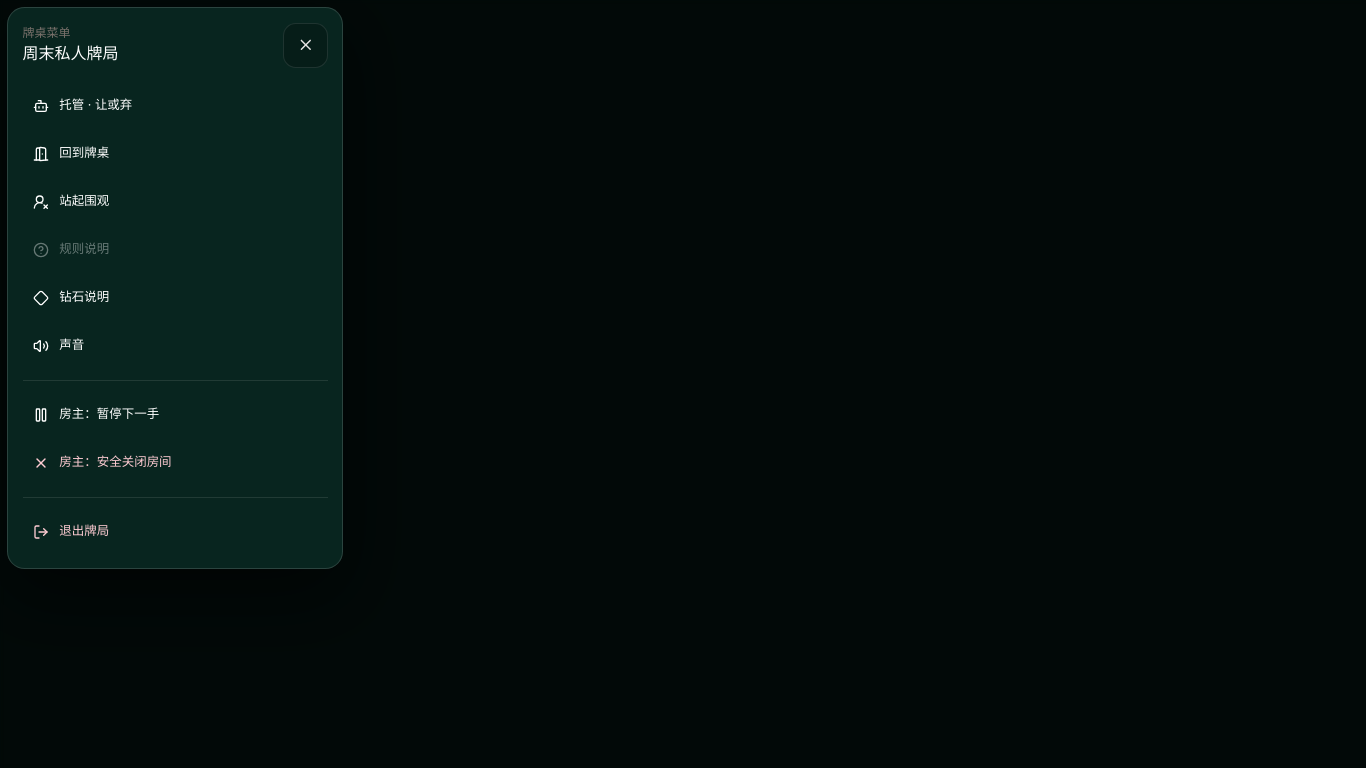
it: mobile table product components › shows safe seat lifecycle controls and honest disabled placeholders
The width and height of the screenshot is (1366, 768).
Expected: the button "回到牌桌" is shown, x1=23 y1=132 x2=328 y2=176
Expected: the button "站起围观" is shown, x1=23 y1=180 x2=328 y2=224
Click the button "声音" at (41, 346), box x1=23 y1=324 x2=328 y2=368
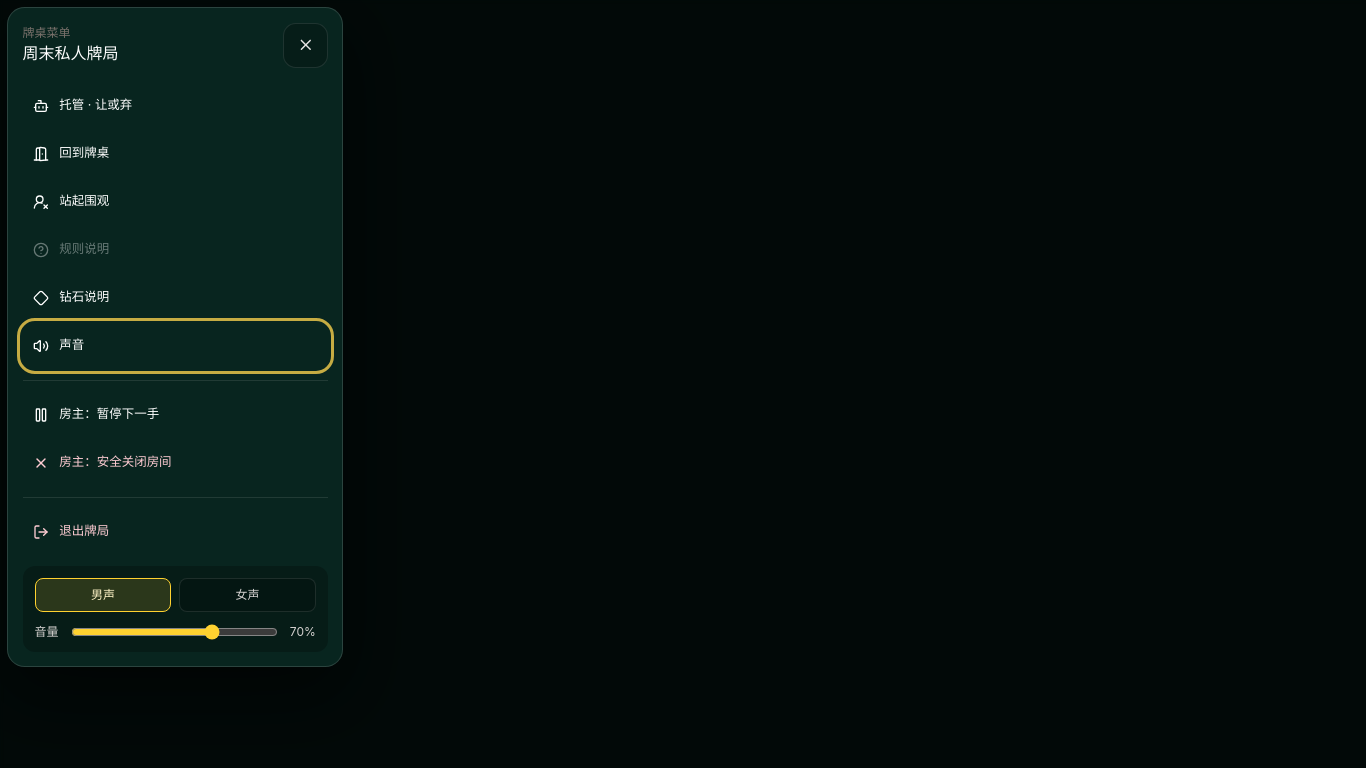
Click the button "女声" at (248, 595), box x1=179 y1=578 x2=316 y2=612
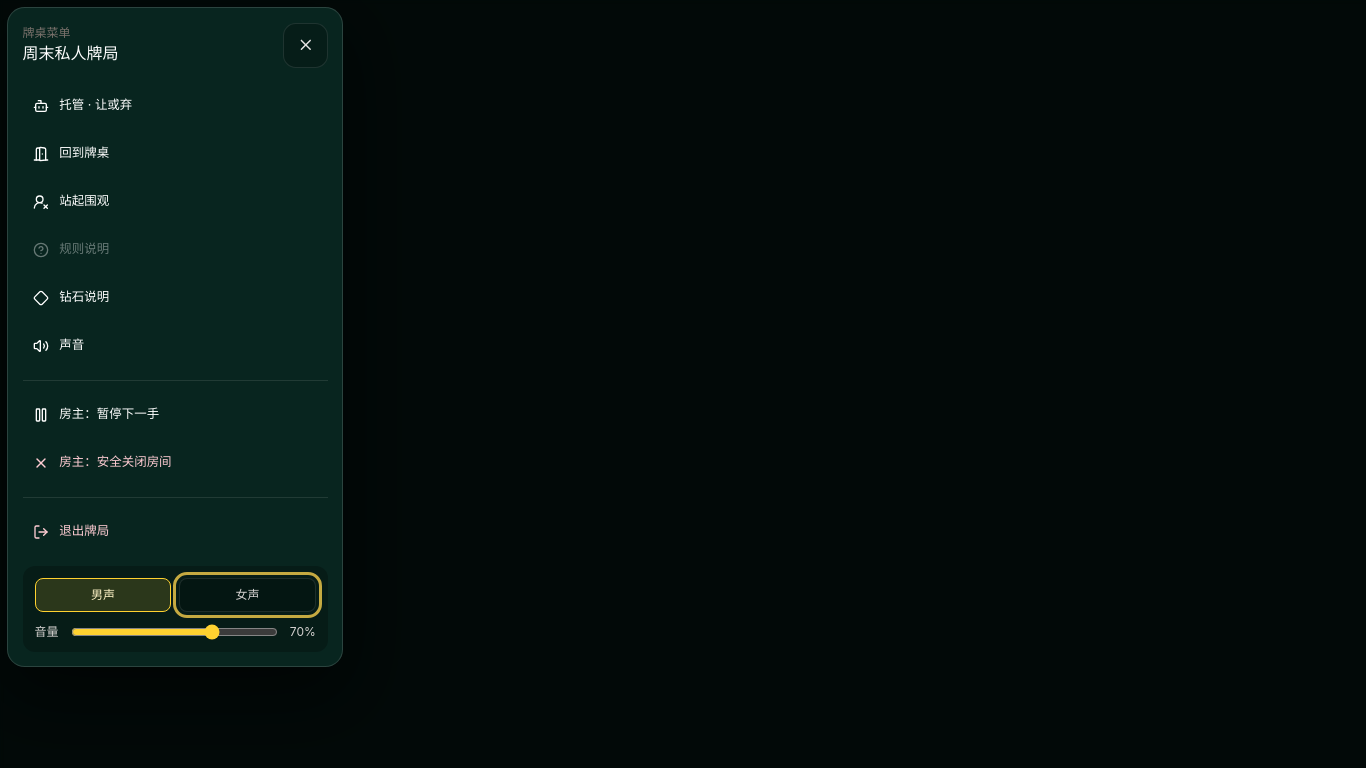
Result: the slider named "牌桌音量" holds "0.7" at x1=71 y1=624 x2=278 y2=640
Click the button "钻石说明" at (84, 297), box x1=23 y1=276 x2=328 y2=320
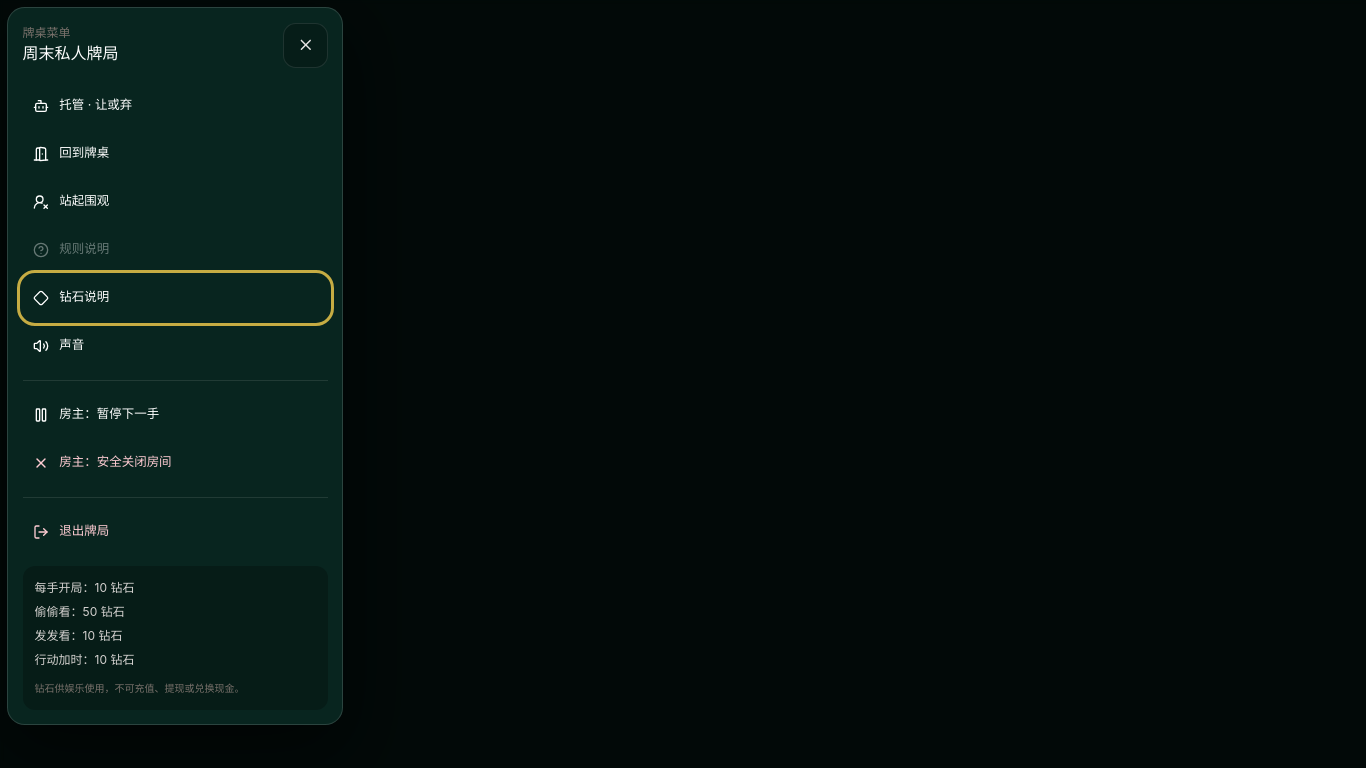
Result: the text "每手开局：10 钻石" is shown at x1=35 y1=580 x2=134 y2=595
Result: the text "偷偷看：50 钻石" is shown at x1=35 y1=604 x2=125 y2=619
Result: the text "发发看：10 钻石" is shown at x1=35 y1=628 x2=122 y2=643
